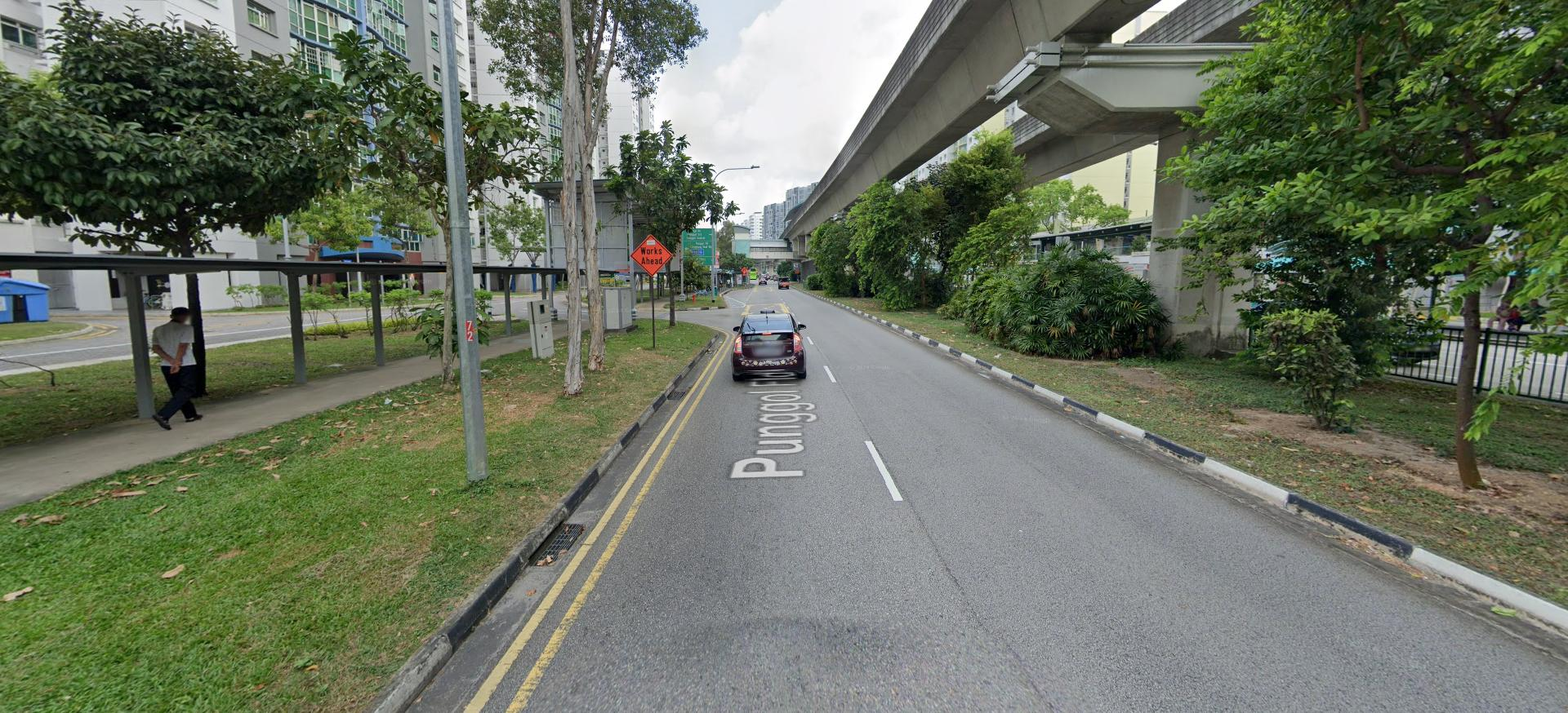defect: (530, 522, 588, 569)
